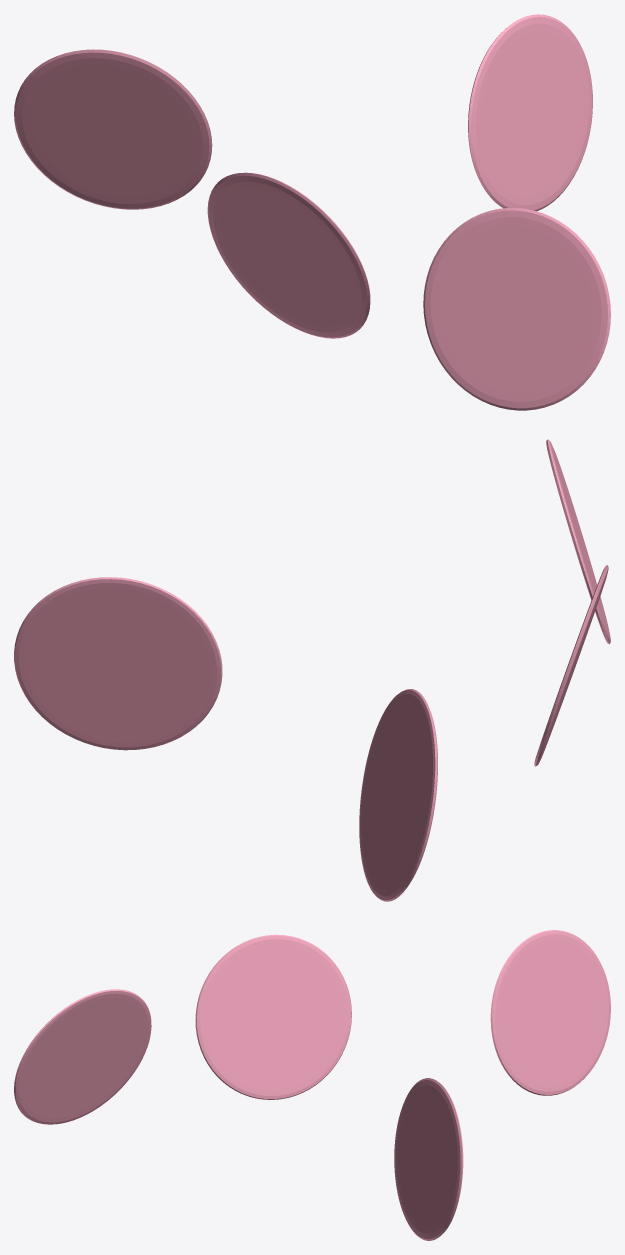
File: DecoChocolate.glb
3 views of the same model, one above another, from view 1: azimuth 30°, elevation 25°; view 2: azimuth 150°, elevation 25°; view 3: azimuth 270°, elevation 25° (orthographic). The views are drawn at different scales.
Parts seen in each view (by area): view 1: Circle.005, Circle.006, Circle.007, Circle.004; view 2: Circle.007, Circle.006, Circle.005, Circle.004; view 3: Circle.004, Circle.006, Circle.005, Circle.007.
Boxes of the visible parts, x1=… form: Circle.005: x1=423, y1=208, x2=610, y2=410; Circle.006: x1=14, y1=49, x2=212, y2=209; Circle.007: x1=468, y1=14, x2=592, y2=211; Circle.004: x1=207, y1=172, x2=370, y2=338; Circle.007: x1=14, y1=577, x2=222, y2=750; Circle.006: x1=359, y1=689, x2=437, y2=901; Circle.005: x1=546, y1=439, x2=610, y2=644; Circle.004: x1=534, y1=565, x2=608, y2=766; Circle.004: x1=195, y1=934, x2=351, y2=1099; Circle.006: x1=490, y1=930, x2=610, y2=1095; Circle.005: x1=14, y1=989, x2=151, y2=1124; Circle.007: x1=394, y1=1078, x2=463, y2=1240.
Bounding box in the file's own units: 1.03 × 0.3915 × 1.34.
